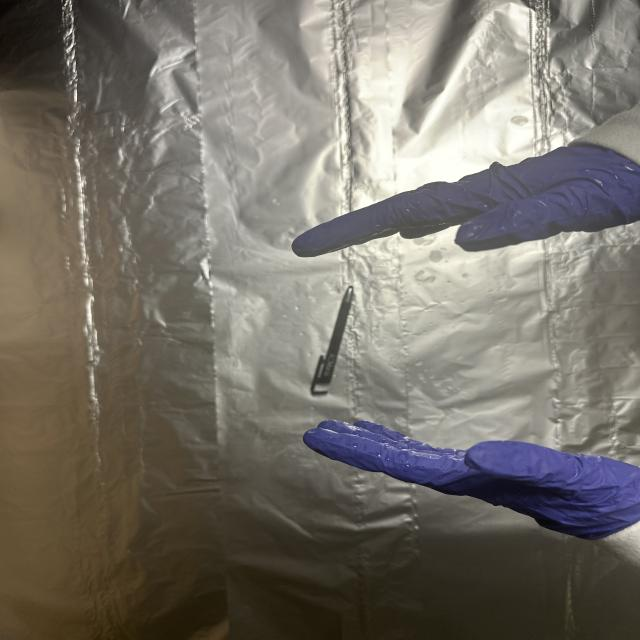gloves_contaminated: (303, 420, 640, 540), (292, 145, 640, 257)
